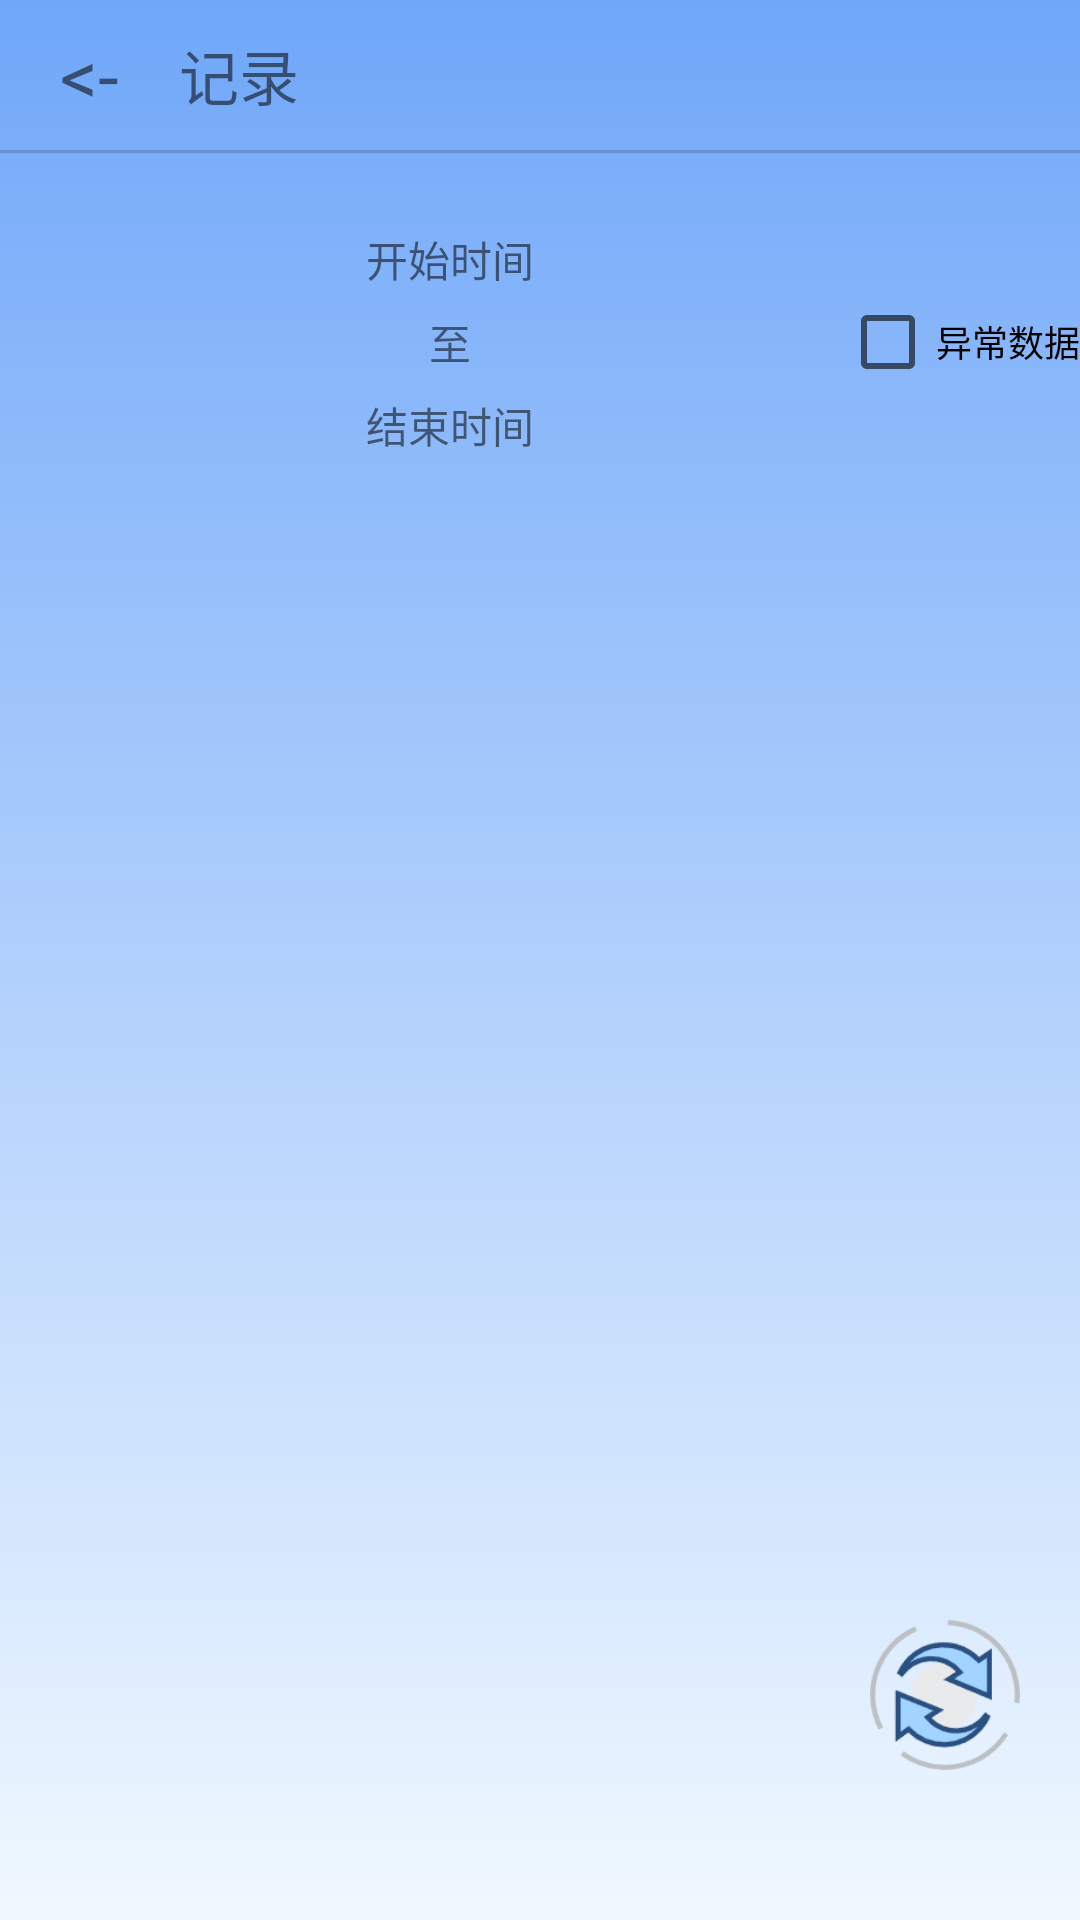

Locate icon controls on the screen. Image size 1080x1920, boxes as [x1,y1,x2,y2].
refresh: [870,1620,1020,1770]
